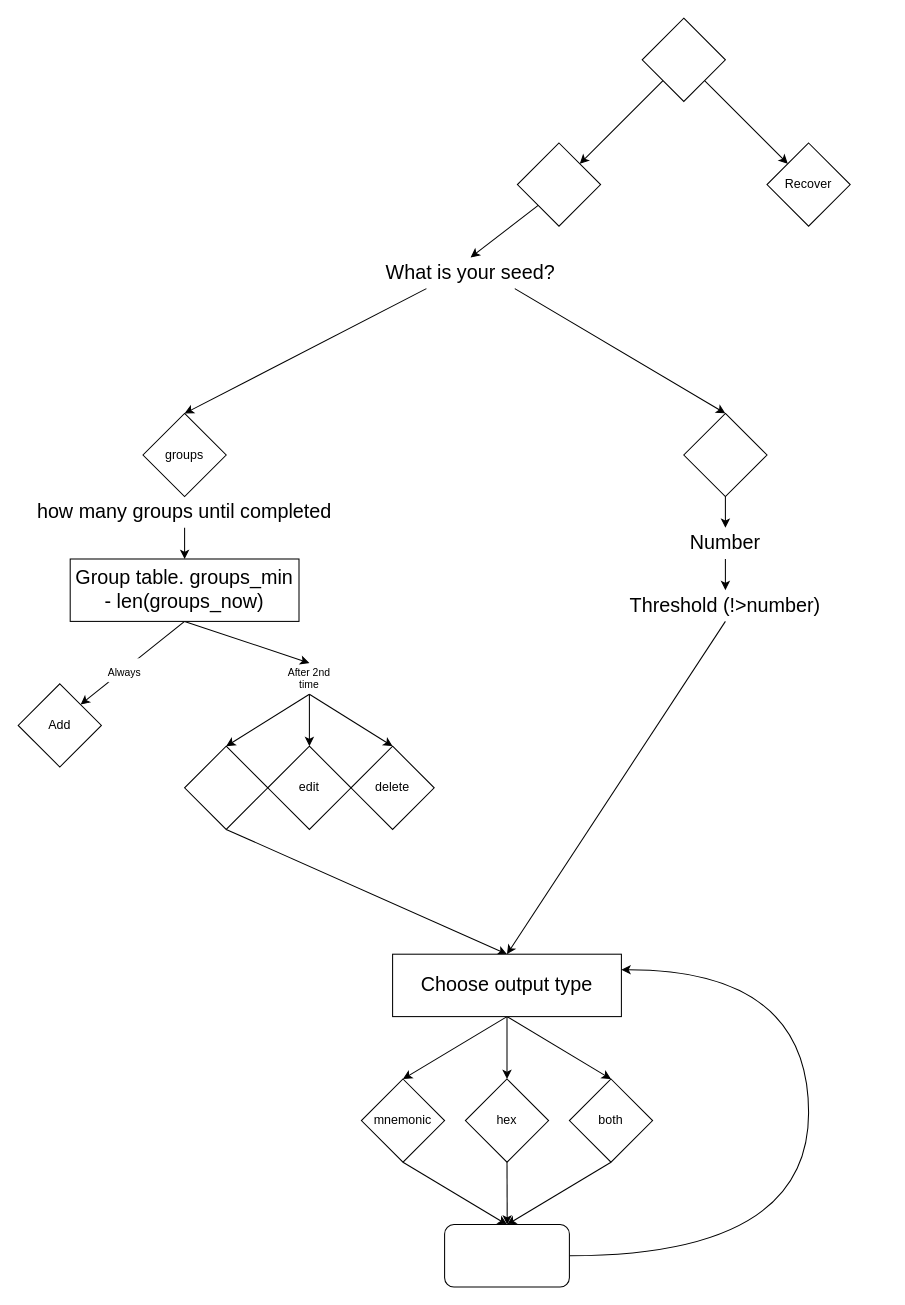
Some shapes in this 905 by 1305 pixel diagram are drawn without their labels. Here are the shapes that lost their labels. From the top down, the centre of each, then its label:
At [683,59]: "Start".
At [558,184]: "Create".
At [725,454]: "no groups".
At [226,787]: "done".
At [506,1255]: "Shows output".
